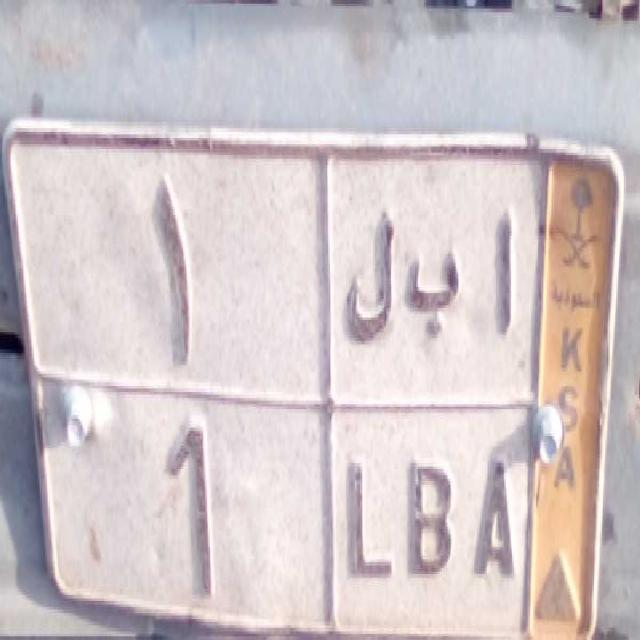license_plate: (34, 371, 530, 639)
